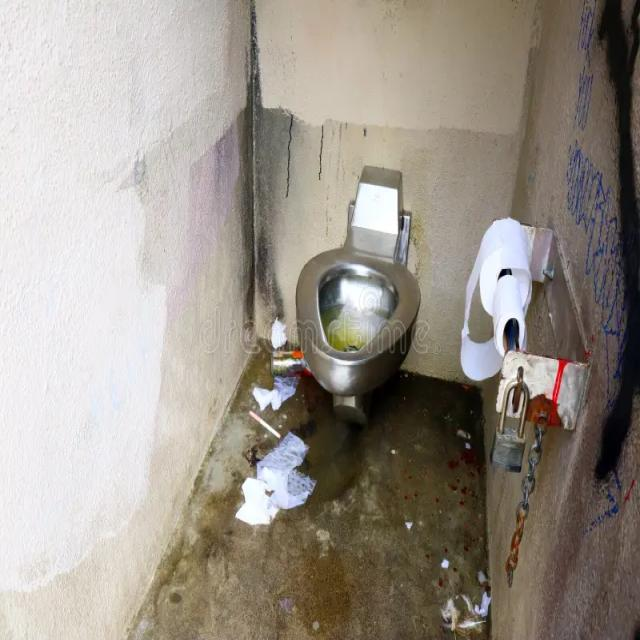dirty_area: (376, 379, 486, 490), (309, 272, 414, 349)
garbage: (232, 379, 322, 537), (401, 502, 494, 639), (258, 311, 300, 345), (266, 347, 310, 373)
